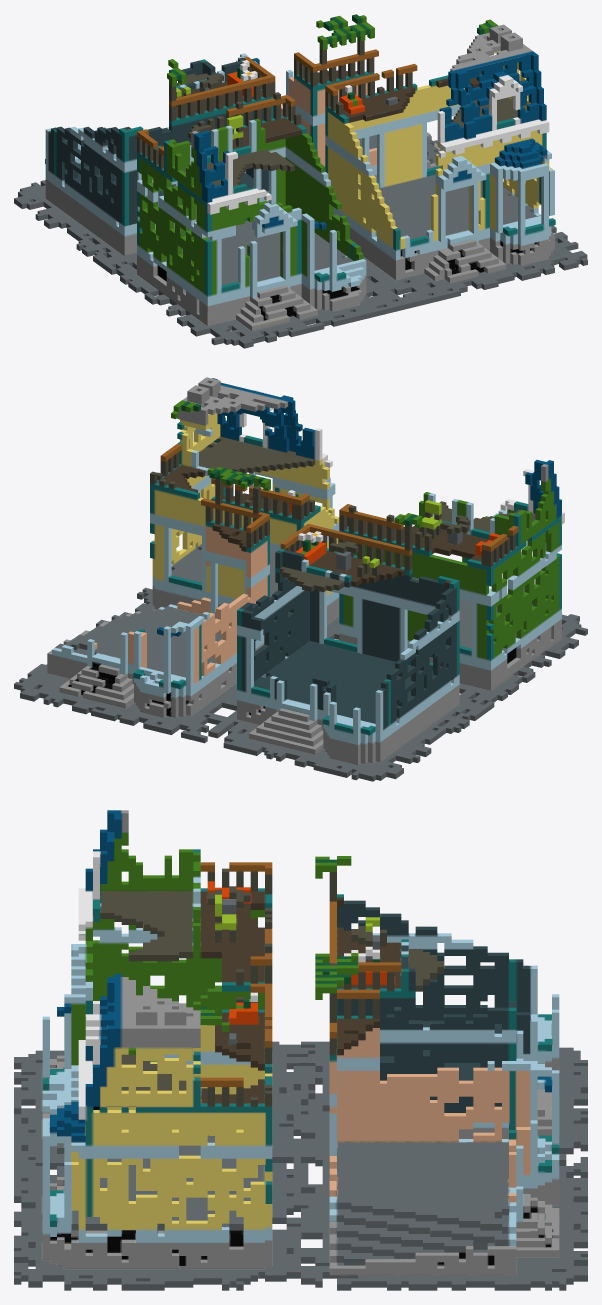
The model's file is building_small_6_destroyed.glb.
3 views of the same model, one above another, from view 1: azimuth 30°, elevation 25°; view 2: azimuth 150°, elevation 25°; view 3: azimuth 270°, elevation 25° (orthographic). The views are drawn at different scales.
Visible parts, largest first — view 1: building_small_6_destroyed; view 2: building_small_6_destroyed; view 3: building_small_6_destroyed.
Part boxes in pixels (box(x1,y1,x2,y2)): building_small_6_destroyed: box(14, 14, 587, 348); building_small_6_destroyed: box(14, 377, 587, 781); building_small_6_destroyed: box(14, 810, 587, 1290).
Size of the model in its own units: 8 by 4 by 8.
1 material, 1 textured.
